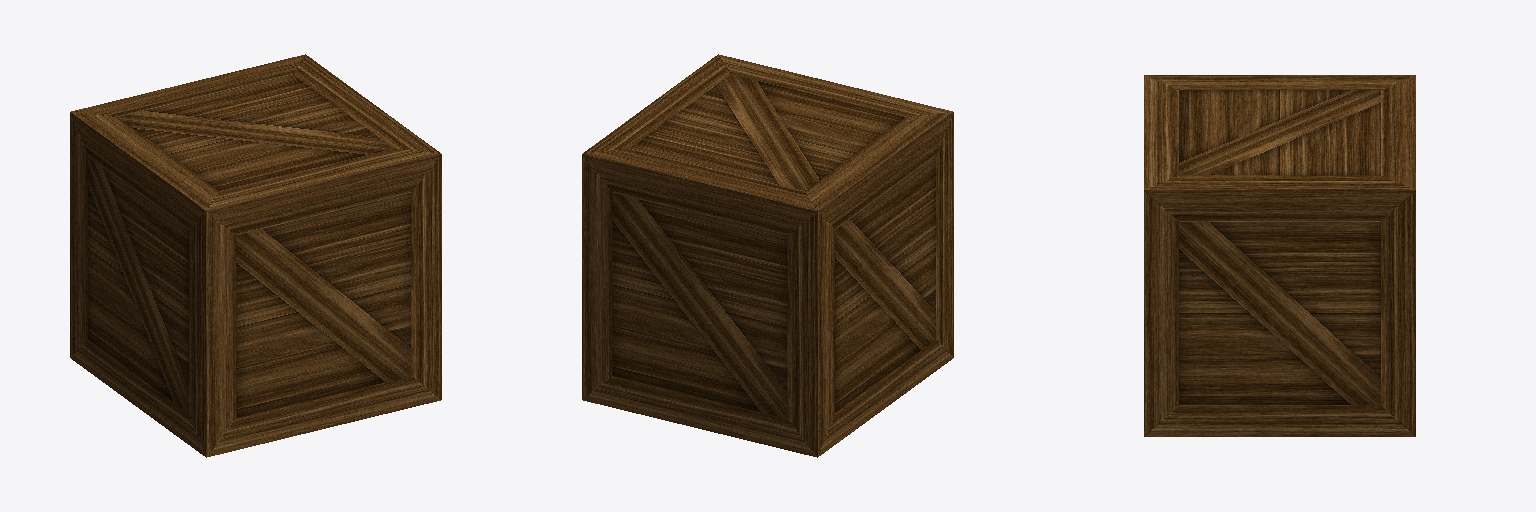
The picture shows the model from 3 angles: view 1: azimuth 30°, elevation 25°; view 2: azimuth 150°, elevation 25°; view 3: azimuth 270°, elevation 25°; orthographic projection.
Visible parts, largest first — view 1: Box001; view 2: Box001; view 3: Box001.
Part boxes in pixels (bbox=[...]): Box001: bbox=[70, 54, 441, 457]; Box001: bbox=[582, 54, 953, 457]; Box001: bbox=[1144, 75, 1415, 436].
Size of the model in its own units: 0.9842 by 0.9842 by 0.9842.
Materials: 1 (1 with a texture image).